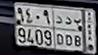0: (34, 11, 43, 45)
4: (24, 7, 34, 45)
9: (16, 6, 26, 45), (43, 9, 53, 48)
B: (73, 17, 82, 48)
D: (55, 14, 64, 46), (64, 15, 73, 47)
